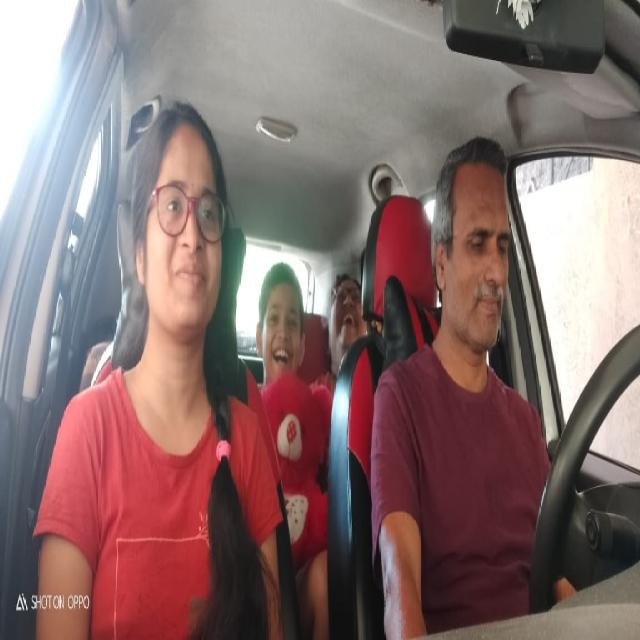drowsy: (426, 112, 529, 368)
person: (129, 76, 233, 370), (252, 226, 308, 402), (328, 259, 369, 370)
